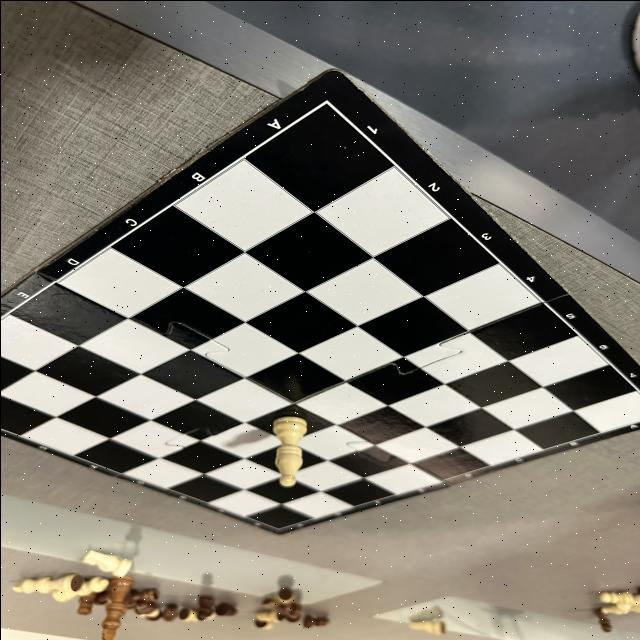Black-King: (100, 576, 133, 640)
Black-Pawn: (196, 594, 213, 620)
Black-Rook: (75, 594, 95, 614), (133, 587, 157, 601)
White-Bishop: (271, 416, 307, 486)
White-King: (10, 572, 82, 593)
White-Knight: (80, 548, 132, 578)
